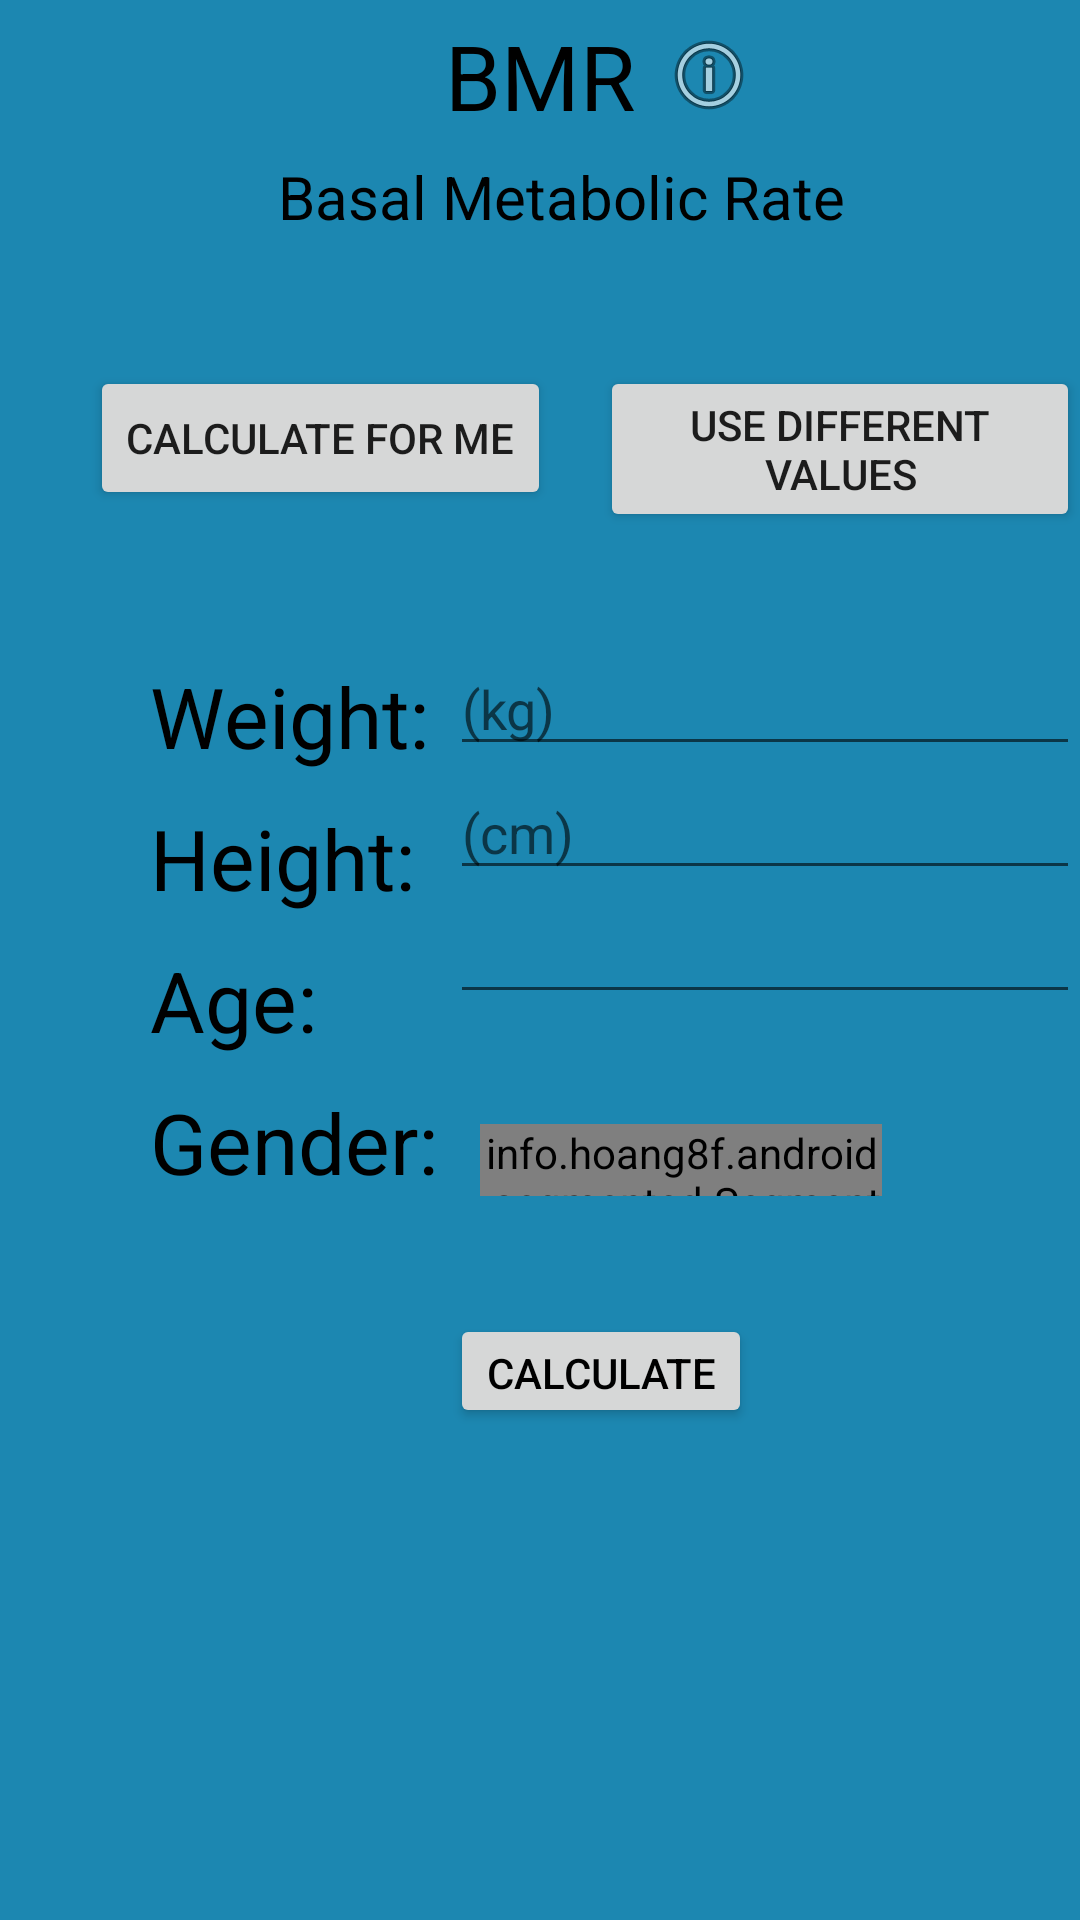

Icon click points for this 1080w x 1920h phone screenshot, format point (x, y):
info details: point (709, 75)
